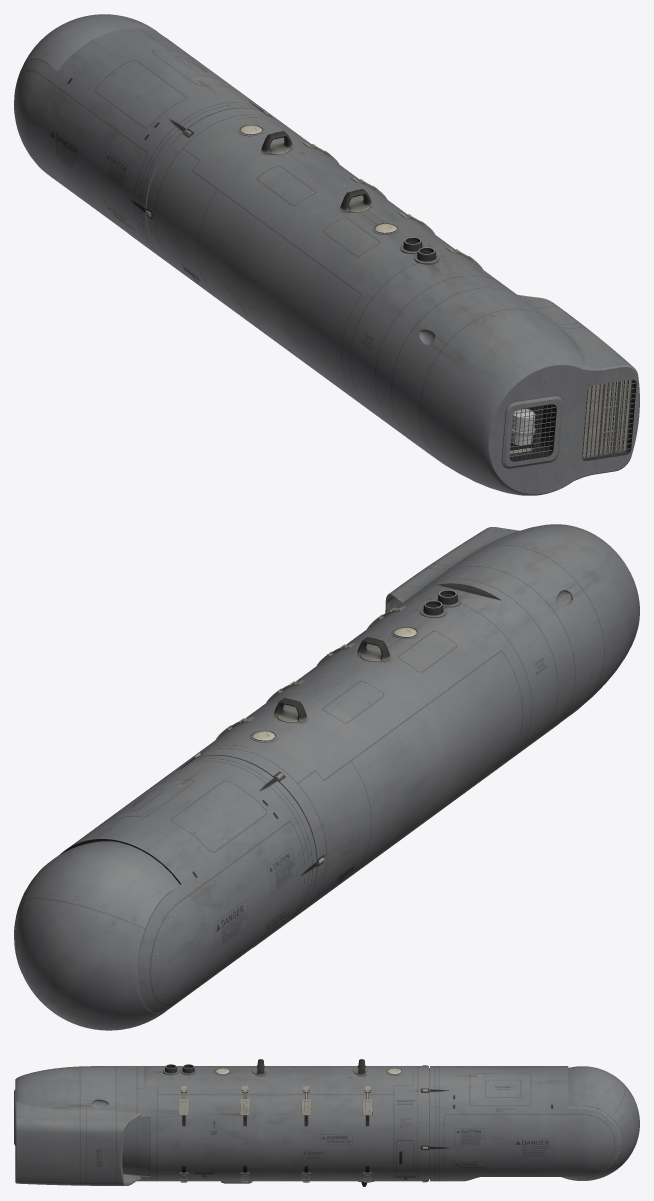
The model's file is w_pod.glb.
The picture shows the model from 3 angles, top to bottom: view 1: azimuth 30°, elevation 25°; view 2: azimuth 150°, elevation 25°; view 3: azimuth 270°, elevation 25°; orthographic projection. The views are drawn at different scales.
Visible parts, largest first — view 1: body, roll, bars, ball; view 2: body, roll, ball; view 3: body, roll, ball.
Boxes of the visible parts, left/top/right/bottom form: body: left=146, top=108, right=639, bottom=495; roll: left=14, top=28, right=273, bottom=262; bars: left=509, top=380, right=635, bottom=460; ball: left=22, top=14, right=160, bottom=71; body: left=182, top=524, right=639, bottom=917; roll: left=14, top=755, right=316, bottom=1012; ball: left=16, top=841, right=179, bottom=1030; body: left=14, top=1059, right=428, bottom=1186; roll: left=429, top=1066, right=621, bottom=1181; ball: left=561, top=1066, right=639, bottom=1180.
Bounding box in the file's own units: 0.4626 × 0.4875 × 2.2.
4 materials, 1 textured.
